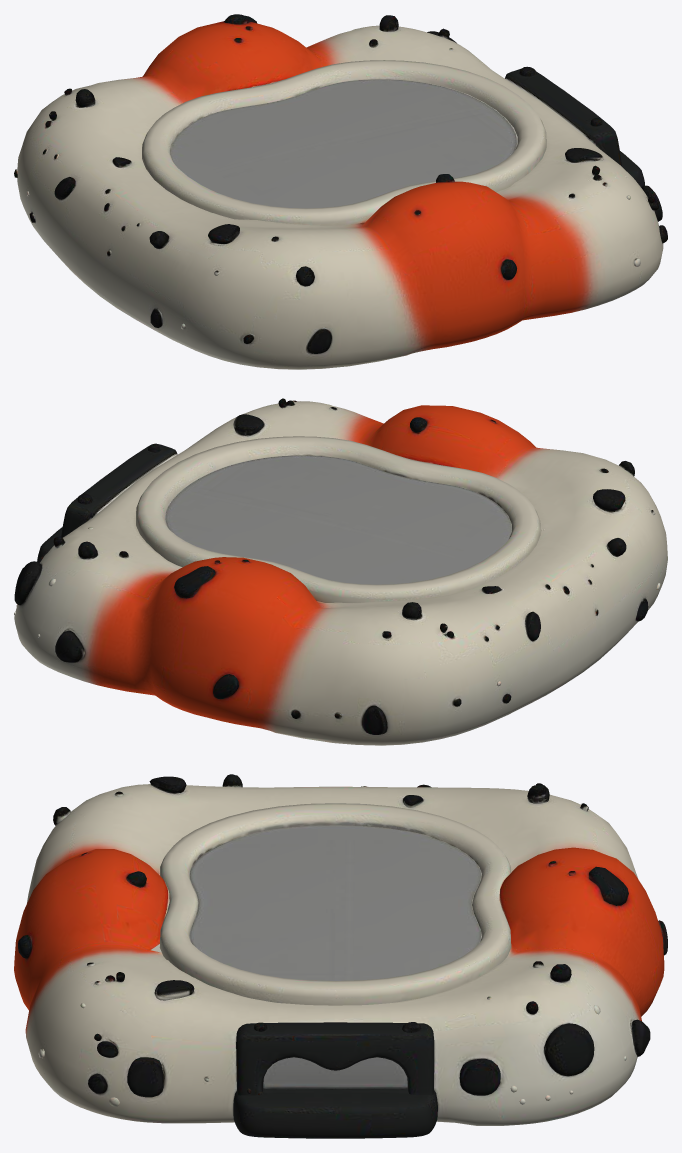
The model's file is env_pad_wardrobe_01.glb.
3 renders of one model, top to bottom at view 1: azimuth 30°, elevation 25°; view 2: azimuth 150°, elevation 25°; view 3: azimuth 270°, elevation 25°, orthographic. The views are drawn at different scales.
Parts seen in each view (by area): view 1: env_pad_wardrobe_01; view 2: env_pad_wardrobe_01; view 3: env_pad_wardrobe_01.
Boxes of the visible parts, box(x1,y1,x2,y2) form: env_pad_wardrobe_01: box(14, 14, 667, 369); env_pad_wardrobe_01: box(14, 398, 667, 745); env_pad_wardrobe_01: box(14, 774, 667, 1138).
Size of the model in its own units: 0.6056 by 0.15 by 0.6038.
Materials: 1 (1 with a texture image).
